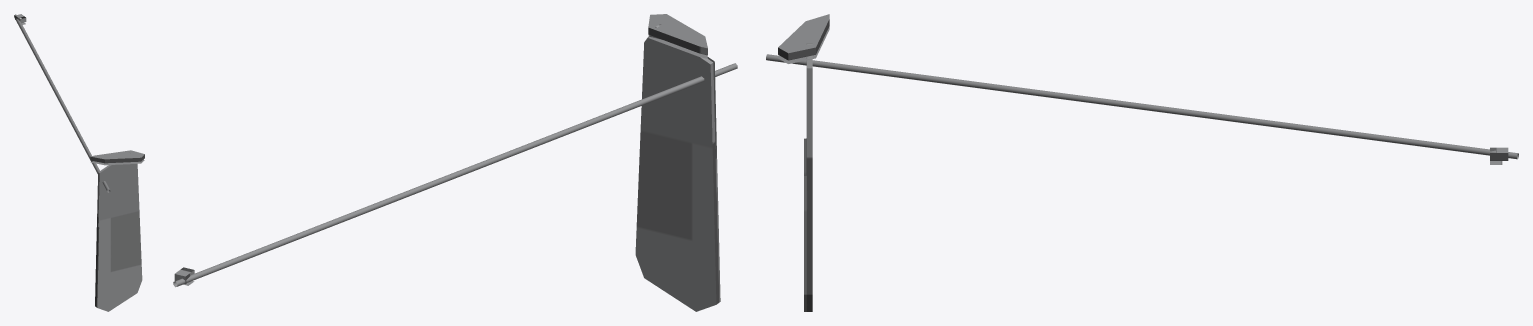
3 renders of one model, left to right at view 1: azimuth 30°, elevation 25°; view 2: azimuth 150°, elevation 25°; view 3: azimuth 270°, elevation 25°, orthographic. The views are drawn at different scales.
Size of the model in its own units: 0.7657 by 0.9828 by 2.36.
